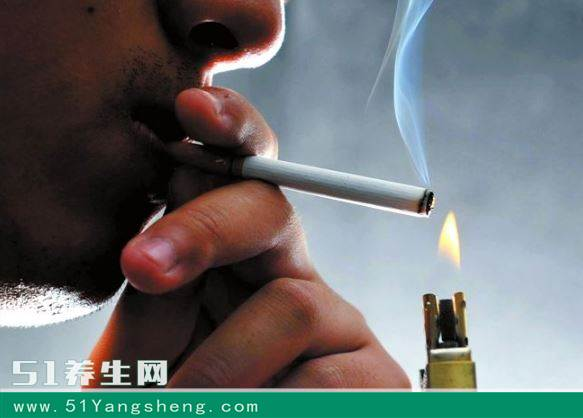yanwu: (389, 1, 436, 189)
